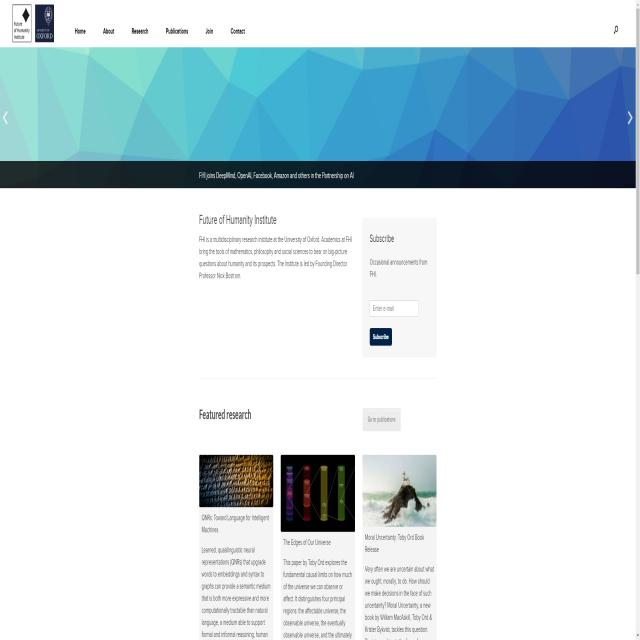control-bar: (2, 100, 20, 138)
menu-bar: (64, 15, 250, 45)
